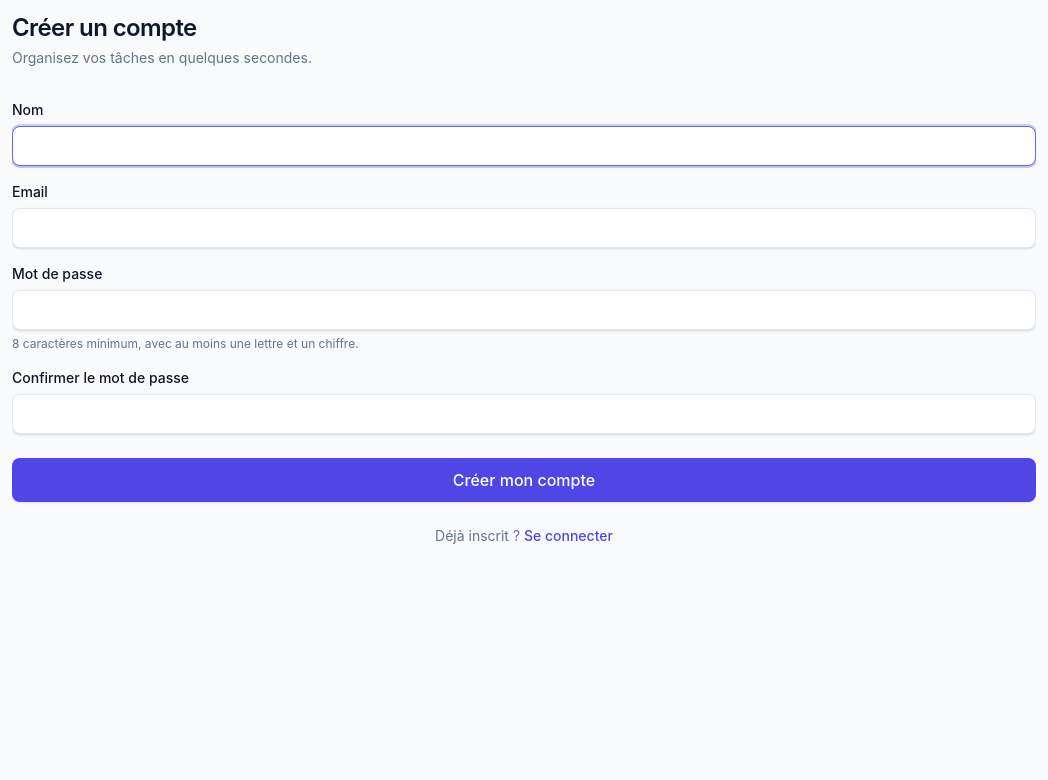
Test: RegisterPage › affiche le conflit d’email sur le champ concerné
In the field labelled "Nom": (524, 146) [12,126,1036,166], type "Alice"
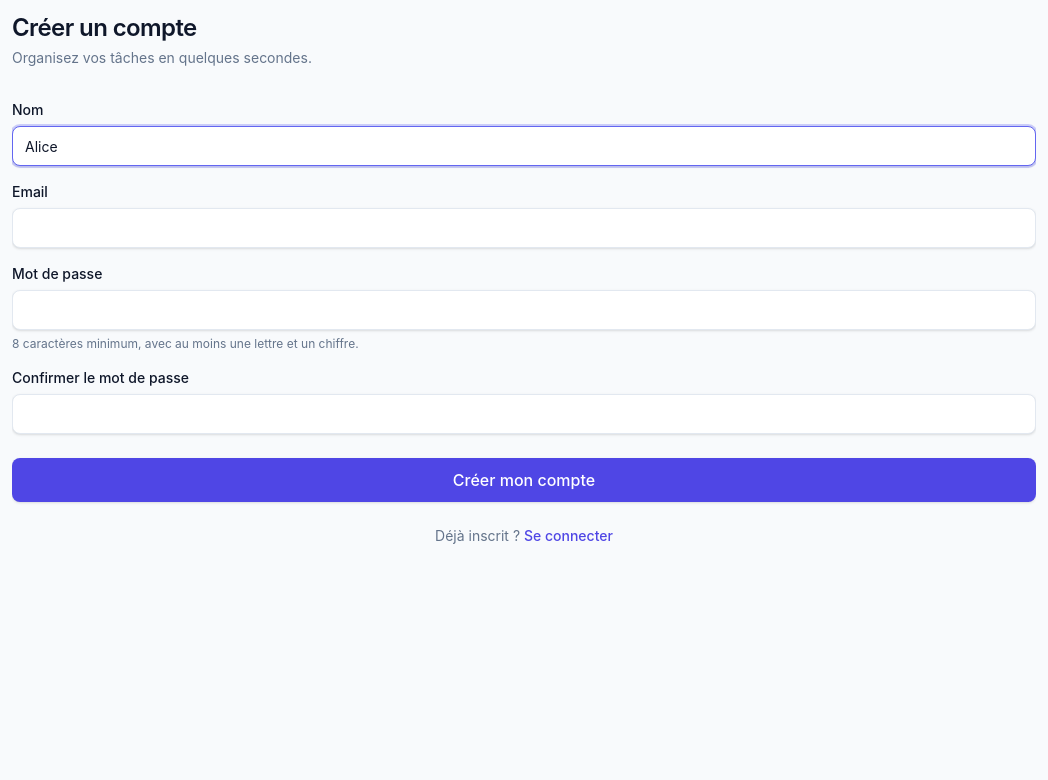
In the field labelled "Email": (524, 228) [12,208,1036,248], type "alice@test.dev"
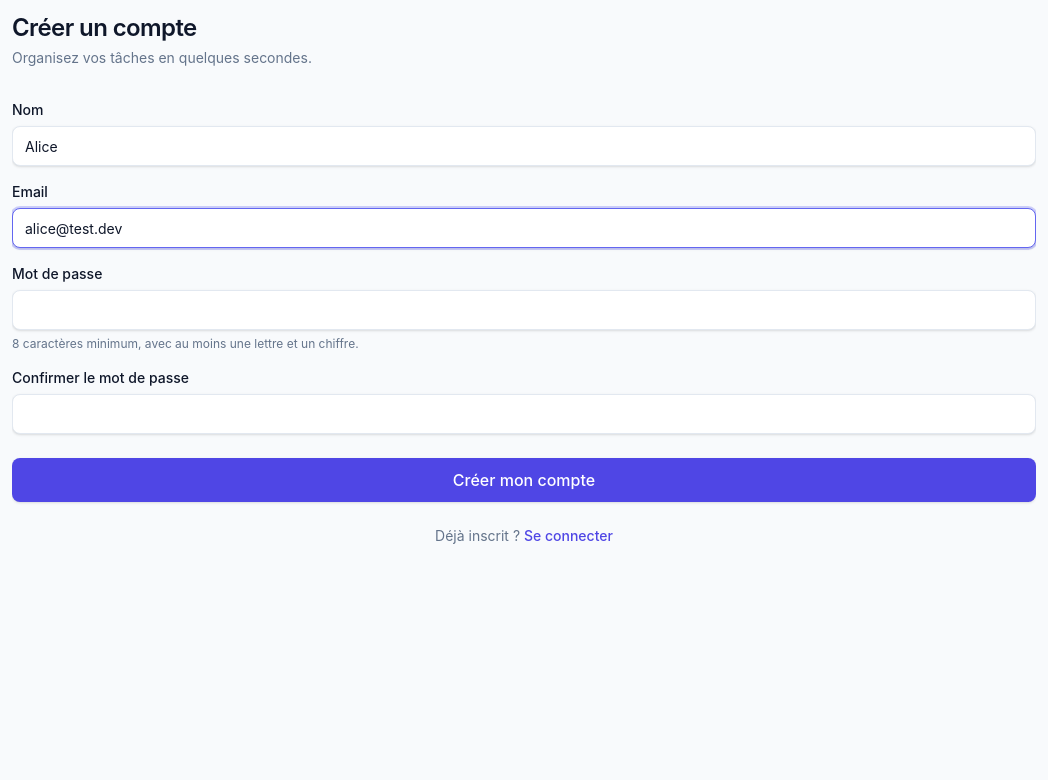
In the password field labelled "Mot de passe": (524, 310) [12,290,1036,330], type "Password123"
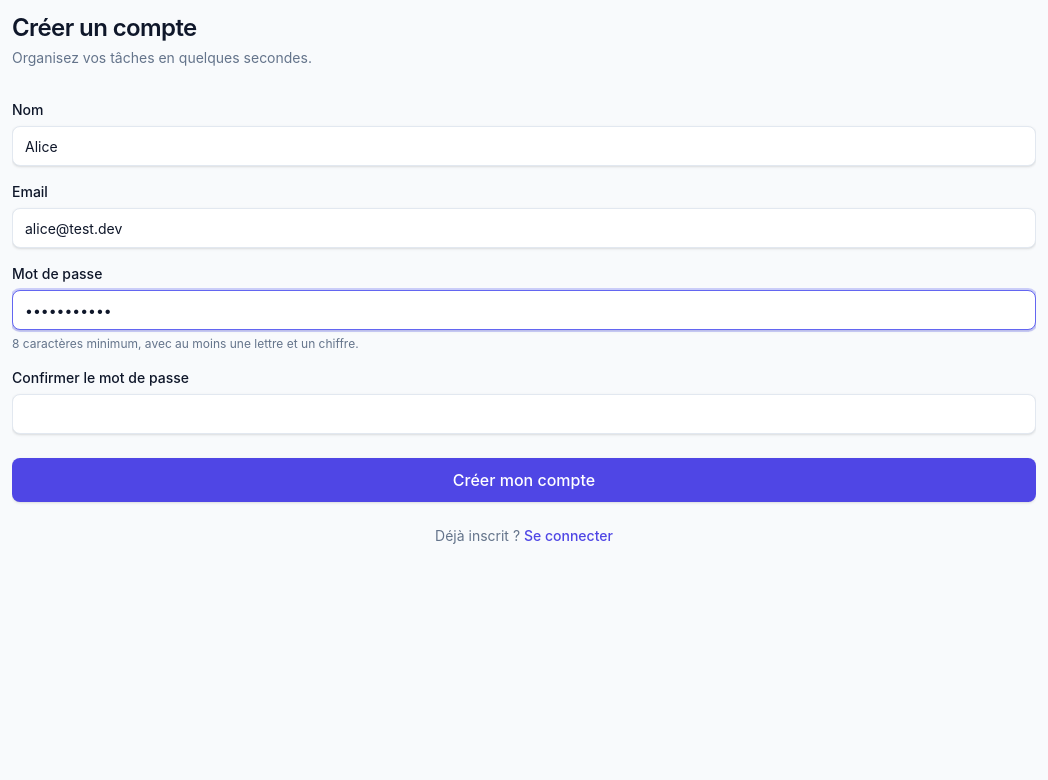
In the password field labelled "Confirmer le mot de passe": (524, 414) [12,394,1036,434], type "Password123"
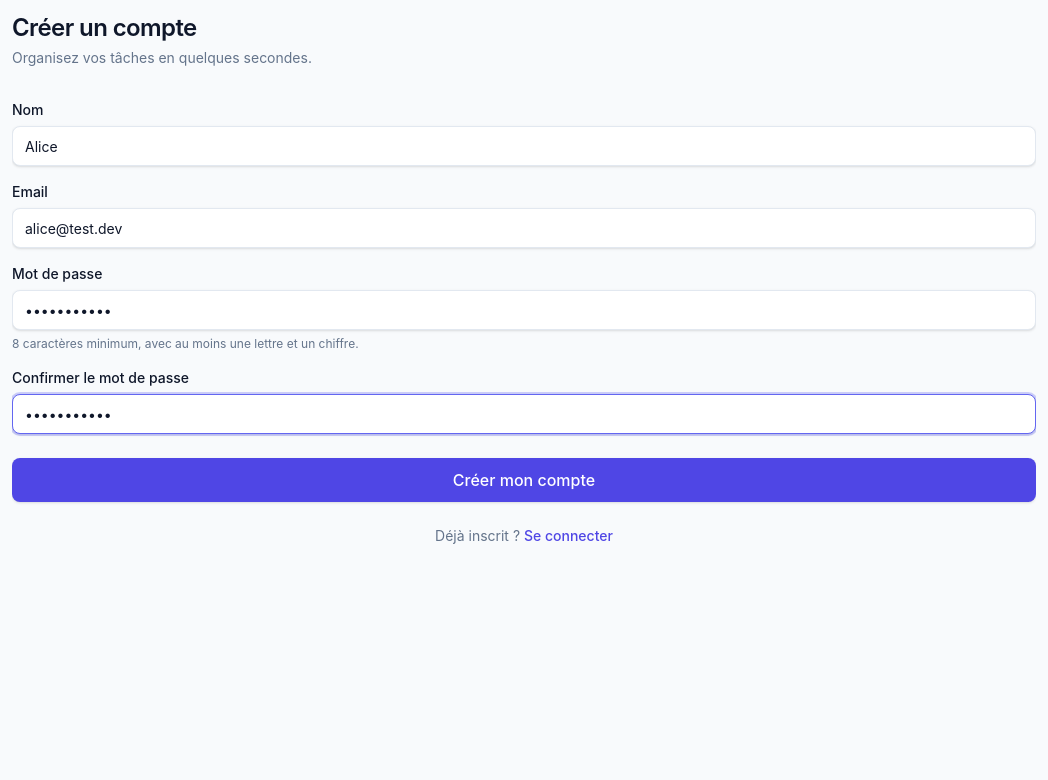
Click the button "Créer mon compte": click(524, 480) [12,458,1036,502]
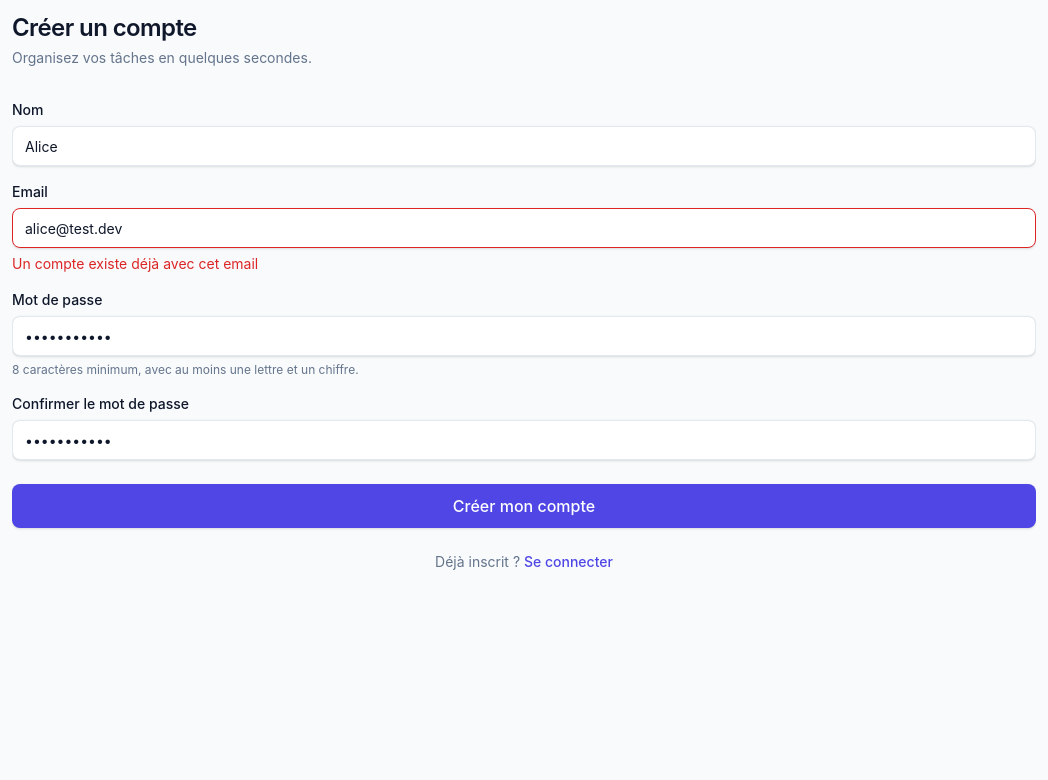
Now the text "Un compte existe déjà avec cet email" is shown, box [12,255,258,272]
